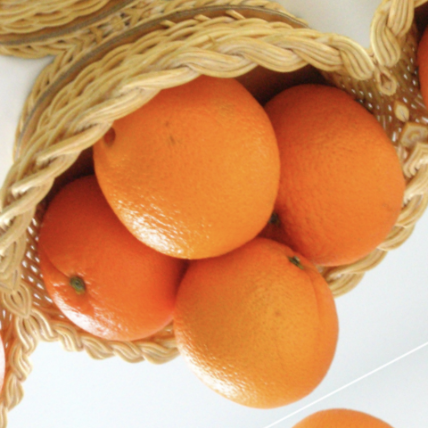orange: (49, 26, 329, 315), (212, 53, 428, 297), (152, 218, 383, 428), (7, 171, 220, 382)
